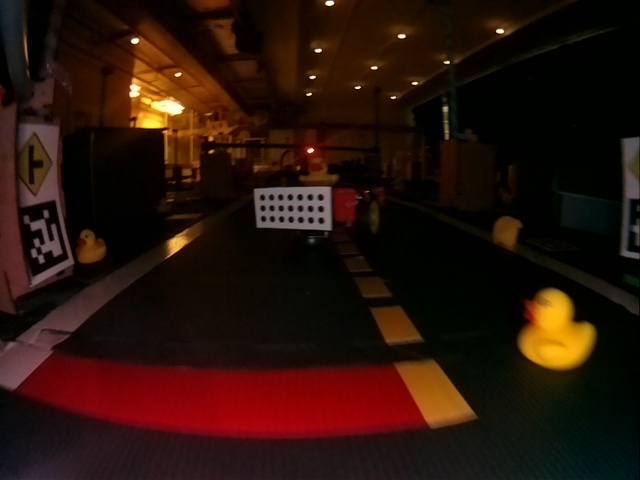Duckie: (518, 289, 596, 369), (300, 158, 337, 184), (75, 230, 106, 260), (493, 216, 521, 249)
Duckiebot: (254, 184, 385, 242)
Intersection sign: (19, 132, 54, 191)
QR code: (18, 200, 67, 274)
